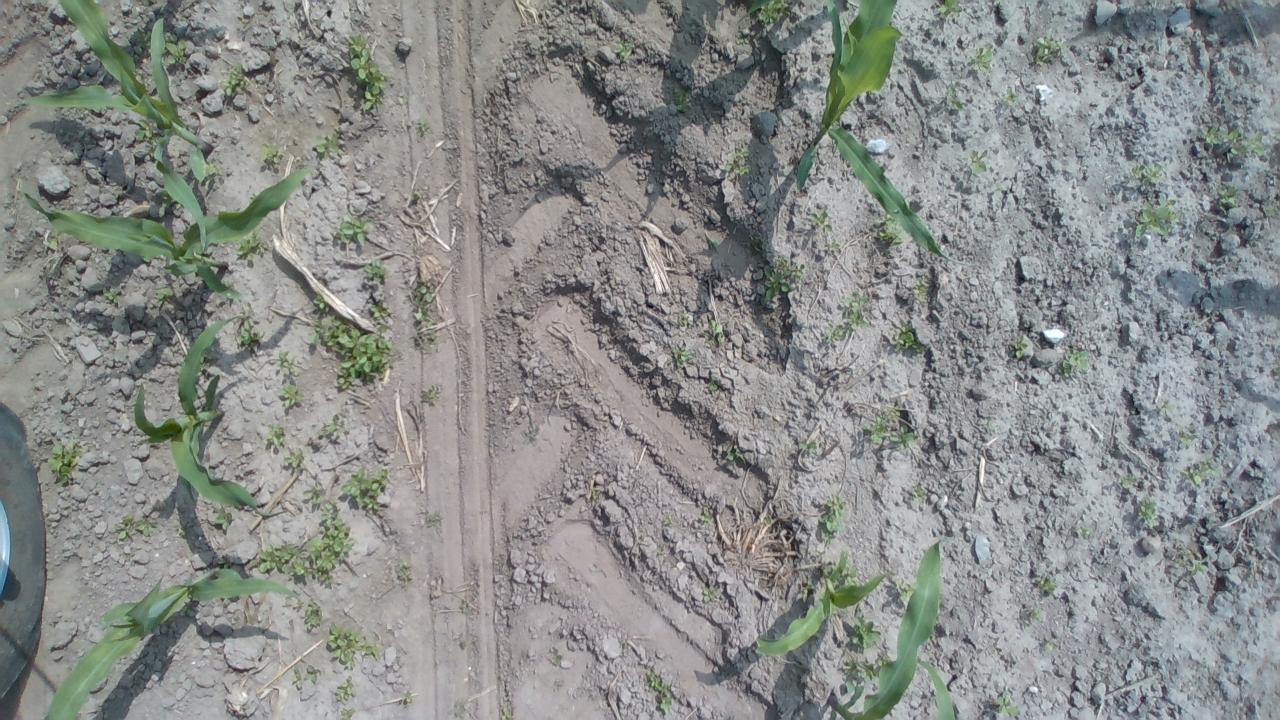Maize: (796, 0, 980, 273), (20, 1, 216, 253), (20, 165, 315, 301), (44, 567, 298, 720), (134, 316, 274, 519), (826, 538, 954, 720), (756, 543, 886, 656)
Weeds: (260, 504, 356, 589), (305, 316, 393, 390), (347, 36, 388, 113), (326, 623, 382, 668), (864, 405, 914, 450), (340, 466, 390, 511), (762, 255, 806, 302), (48, 436, 86, 487), (1136, 199, 1183, 240), (821, 496, 850, 544), (414, 287, 438, 341), (235, 305, 263, 351), (332, 214, 372, 244), (848, 616, 882, 650), (874, 214, 912, 243), (1029, 31, 1062, 64), (891, 320, 925, 352), (718, 146, 754, 176), (112, 514, 152, 540), (749, 0, 790, 25), (1230, 131, 1266, 159), (1183, 458, 1217, 487), (648, 672, 672, 712), (236, 232, 268, 262), (222, 62, 248, 98), (1196, 124, 1240, 145), (1061, 348, 1090, 378), (844, 295, 870, 328), (164, 31, 188, 66), (1177, 547, 1208, 574), (312, 132, 344, 158), (1130, 163, 1168, 184), (262, 140, 288, 169), (134, 121, 161, 148), (968, 46, 994, 74), (701, 319, 726, 347), (845, 660, 879, 680), (943, 82, 966, 110), (290, 665, 318, 688), (280, 386, 306, 409), (303, 601, 322, 632), (967, 148, 988, 176), (366, 260, 390, 284), (277, 352, 300, 377), (212, 504, 234, 530), (1137, 500, 1158, 526), (809, 207, 830, 233), (674, 87, 694, 114), (614, 36, 636, 60), (996, 696, 1022, 716), (264, 424, 288, 445), (1218, 184, 1240, 206), (746, 235, 768, 257), (838, 565, 861, 586), (912, 278, 929, 306), (367, 302, 395, 319), (896, 578, 914, 604), (150, 285, 173, 305), (1008, 336, 1028, 358), (284, 448, 306, 468), (937, 0, 961, 17), (304, 485, 324, 505), (335, 678, 353, 700), (823, 326, 846, 342), (798, 438, 818, 456), (673, 346, 690, 366), (799, 580, 816, 600), (1038, 576, 1056, 594), (724, 446, 742, 464), (1180, 434, 1200, 450), (102, 288, 121, 304), (136, 29, 151, 49), (701, 586, 717, 603), (311, 294, 328, 310), (322, 422, 339, 438), (1002, 89, 1018, 105), (701, 510, 716, 526), (426, 512, 441, 528), (397, 560, 410, 578), (913, 487, 928, 502), (1120, 474, 1136, 488), (418, 390, 438, 400), (45, 238, 59, 252), (208, 164, 224, 176), (217, 558, 233, 570), (1078, 526, 1092, 538), (414, 120, 428, 132), (679, 314, 693, 326), (1044, 637, 1058, 649), (178, 526, 192, 538), (1265, 206, 1280, 217), (878, 654, 893, 664), (829, 239, 840, 252), (402, 690, 412, 704), (1030, 610, 1041, 622), (340, 709, 352, 720), (500, 709, 512, 720), (706, 239, 720, 248), (552, 654, 562, 665), (248, 192, 260, 201), (1160, 402, 1170, 412), (738, 38, 748, 47), (709, 382, 720, 390), (664, 516, 674, 524), (183, 606, 192, 614), (764, 517, 772, 525), (996, 0, 1004, 7)
